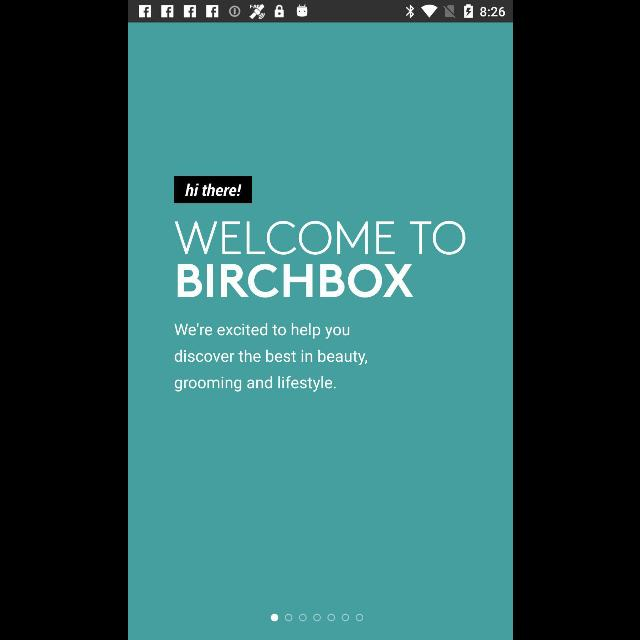pageindicator: (270, 614, 362, 622)
text: (173, 220, 464, 298), (173, 322, 367, 392)
uppertaskbar: (128, 1, 512, 23)
